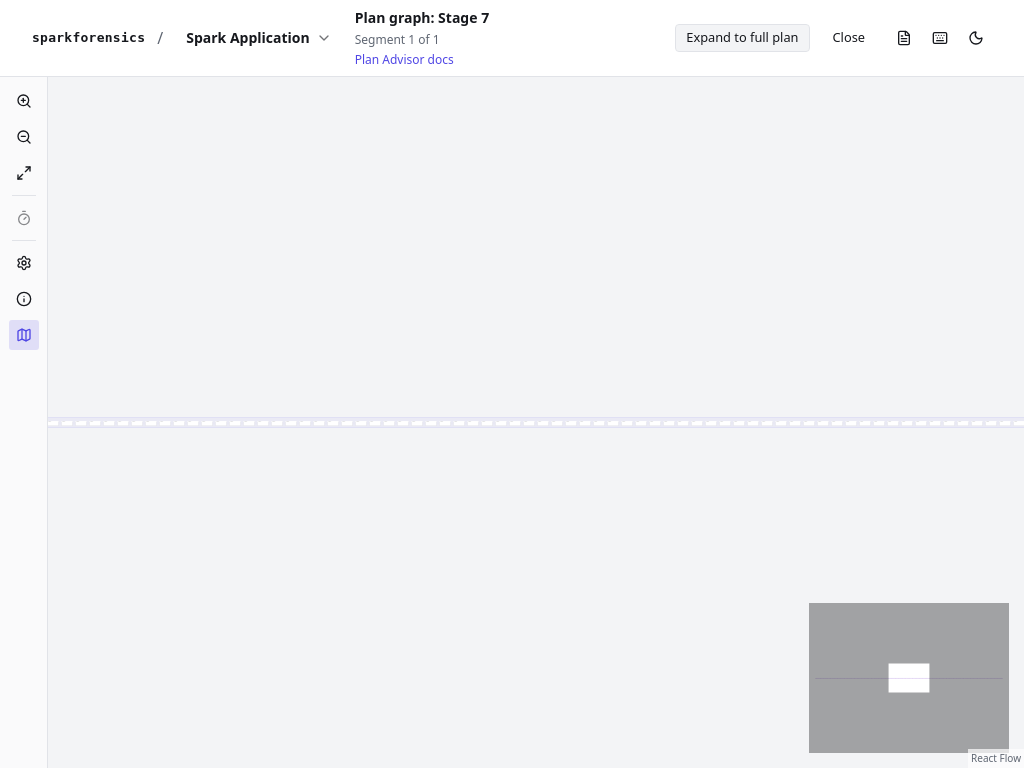
expanding a plan over the 300-node threshold shows the guardrail dialog instead of expanding immediately
The width and height of the screenshot is (1024, 768).
Click the button "Expand to full plan". click: (742, 38)
box: left=675, top=24, right=810, bottom=52
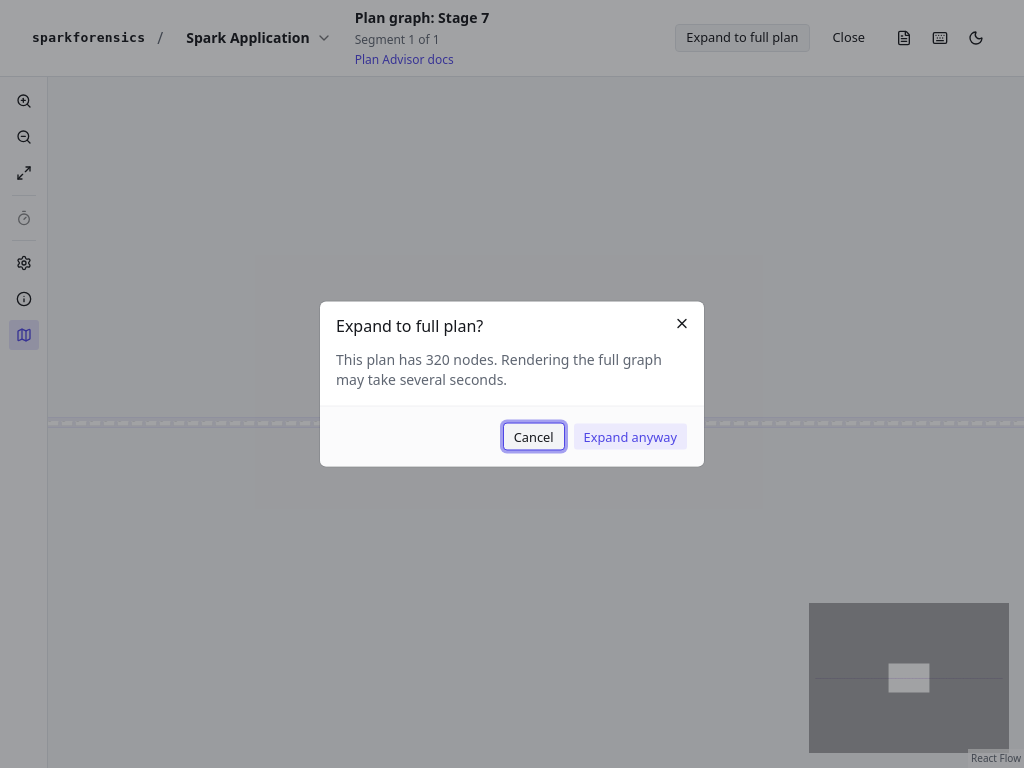
Check: the text "Segment 1 of 1" is shown, box left=355, top=31, right=440, bottom=48
Check: the text "320" is shown, box left=426, top=350, right=450, bottom=368
Check: the text "several seconds" is shown, box left=336, top=350, right=662, bottom=388
